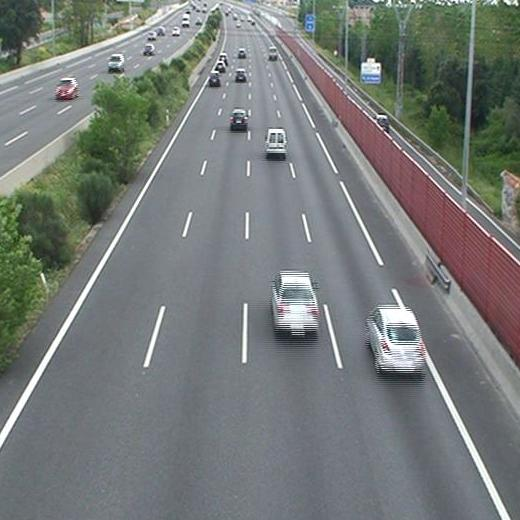car: (365, 308, 424, 372), (273, 274, 319, 333), (229, 110, 247, 129), (208, 71, 219, 85), (236, 69, 247, 81), (267, 47, 276, 58), (215, 61, 225, 70), (236, 49, 245, 57)
van: (266, 129, 287, 154)
